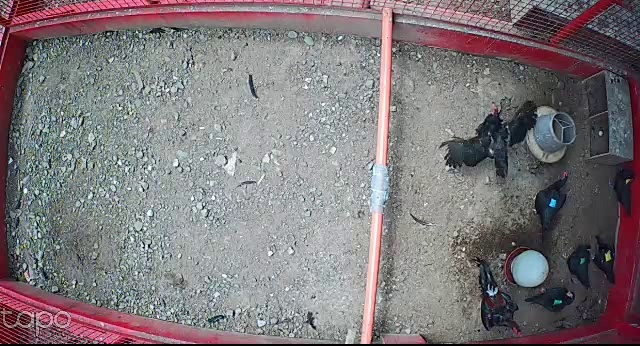Chicken: (444, 101, 542, 180), (530, 167, 572, 251), (582, 234, 622, 287), (519, 285, 580, 315), (561, 243, 592, 295), (606, 167, 637, 219)
Drinker: (505, 246, 550, 288)
Feeder: (526, 102, 577, 167)
Rooster: (470, 254, 524, 341)
Saddle_Color_Blue: (547, 197, 558, 208)
Saddle_Color_Yellow: (604, 248, 614, 262)
